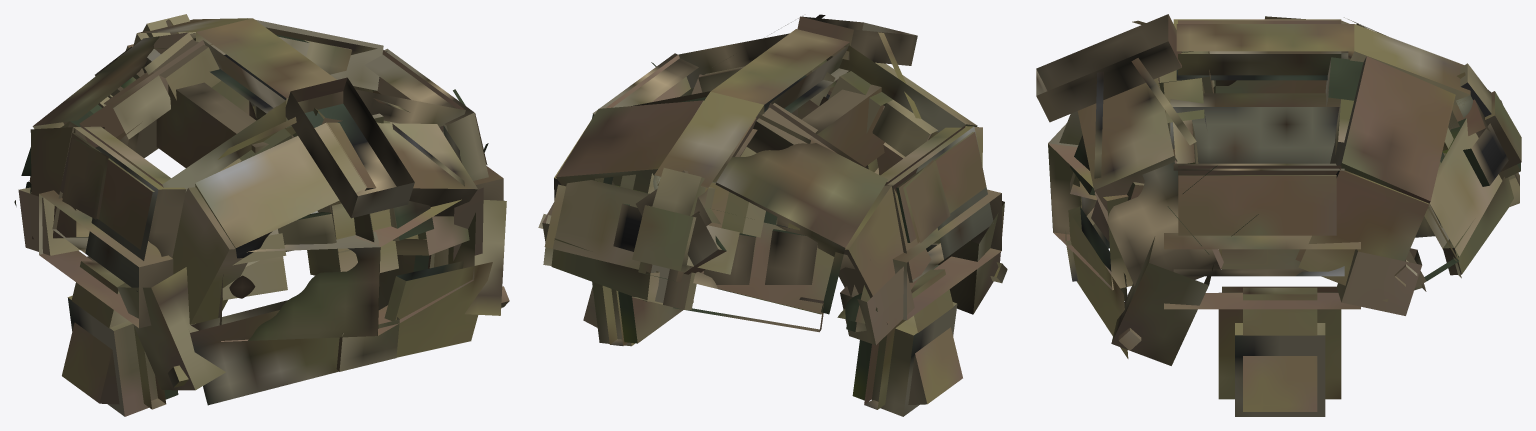
The model's file is airframe_h.obj.
3 views of the same model, side by side, from view 1: azimuth 30°, elevation 25°; view 2: azimuth 150°, elevation 25°; view 3: azimuth 270°, elevation 25° (orthographic). The views are drawn at different scales.
Parts seen in each view (by area): view 1: cube; view 2: cube; view 3: cube.
Part boxes in pixels (box(x1,y1,x2,y2)): cube: box(14, 14, 509, 416); cube: box(538, 14, 1007, 416); cube: box(1036, 14, 1521, 416).
Bounding box in the file's own units: 0.8 × 0.6673 × 0.9397.
